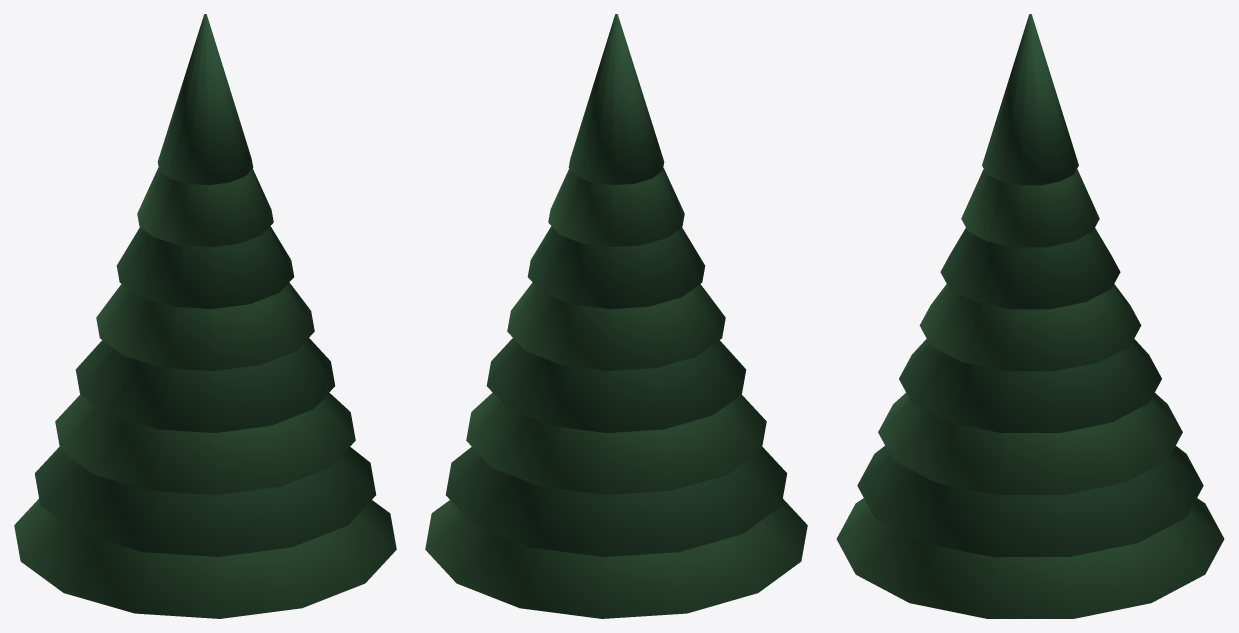
Rendered from pine.glb.
3 views of the same model, side by side, from view 1: azimuth 30°, elevation 25°; view 2: azimuth 150°, elevation 25°; view 3: azimuth 270°, elevation 25° (orthographic).
Parts seen in each view (by area): view 1: Needles0; view 2: Needles0; view 3: Needles0.
Boxes of the visible parts, bbox=[...] form: Needles0: bbox=[14, 14, 396, 618]; Needles0: bbox=[425, 14, 807, 618]; Needles0: bbox=[836, 14, 1224, 618].
Size of the model in its own units: 5.46 by 8.95 by 5.6.
